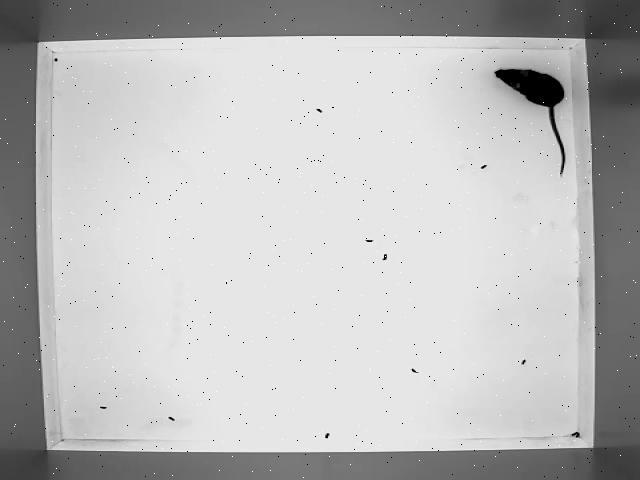Tikus: (495, 67, 566, 176)
